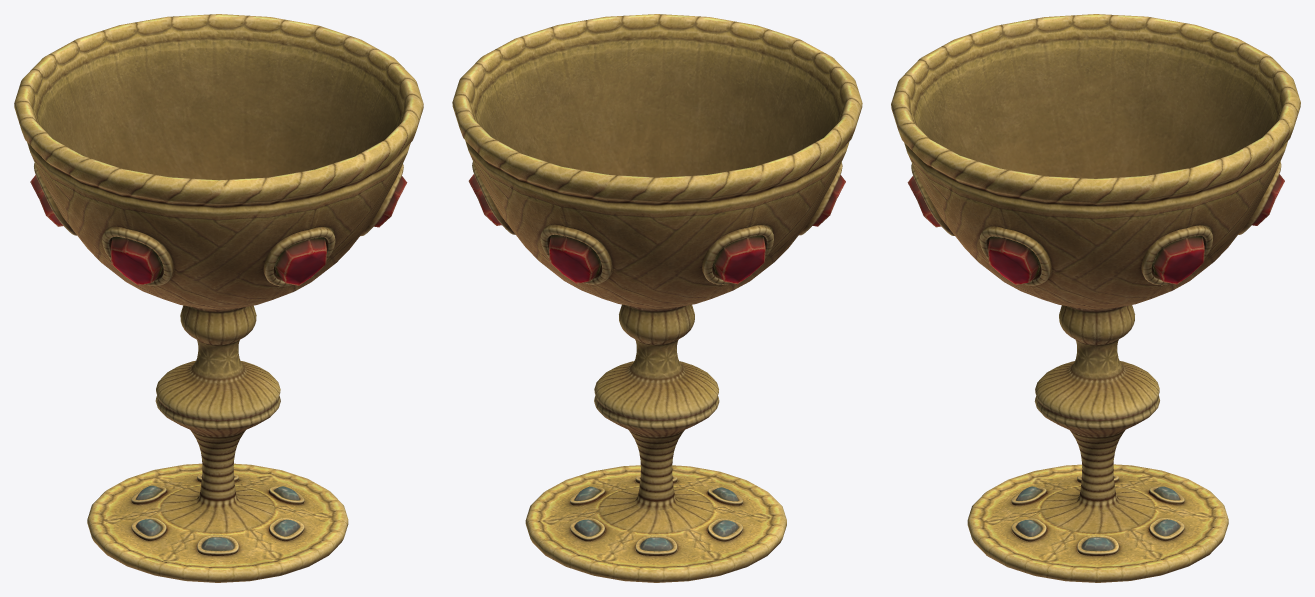
The model's file is calice.glb.
3 renders of one model, left to right at view 1: azimuth 30°, elevation 25°; view 2: azimuth 150°, elevation 25°; view 3: azimuth 270°, elevation 25°, orthographic.
Parts seen in each view (by area): view 1: Object_2; view 2: Object_2; view 3: Object_2.
Boxes of the visible parts, x1,y1,x2,y2 form: Object_2: (14, 14, 423, 582); Object_2: (452, 14, 862, 582); Object_2: (891, 14, 1300, 582).
Size of the model in its own units: 0.5321 by 0.6224 by 0.5321.
1 material, 1 textured.
